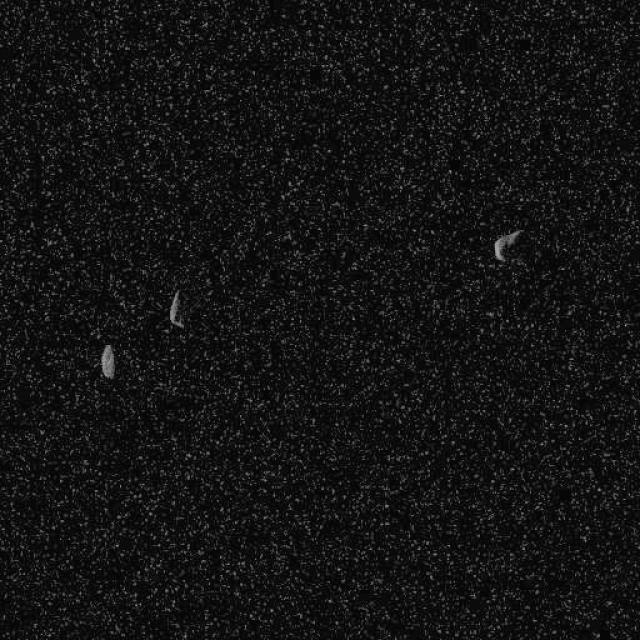D2: (492, 228, 524, 262), (168, 289, 184, 329), (99, 342, 115, 378)
